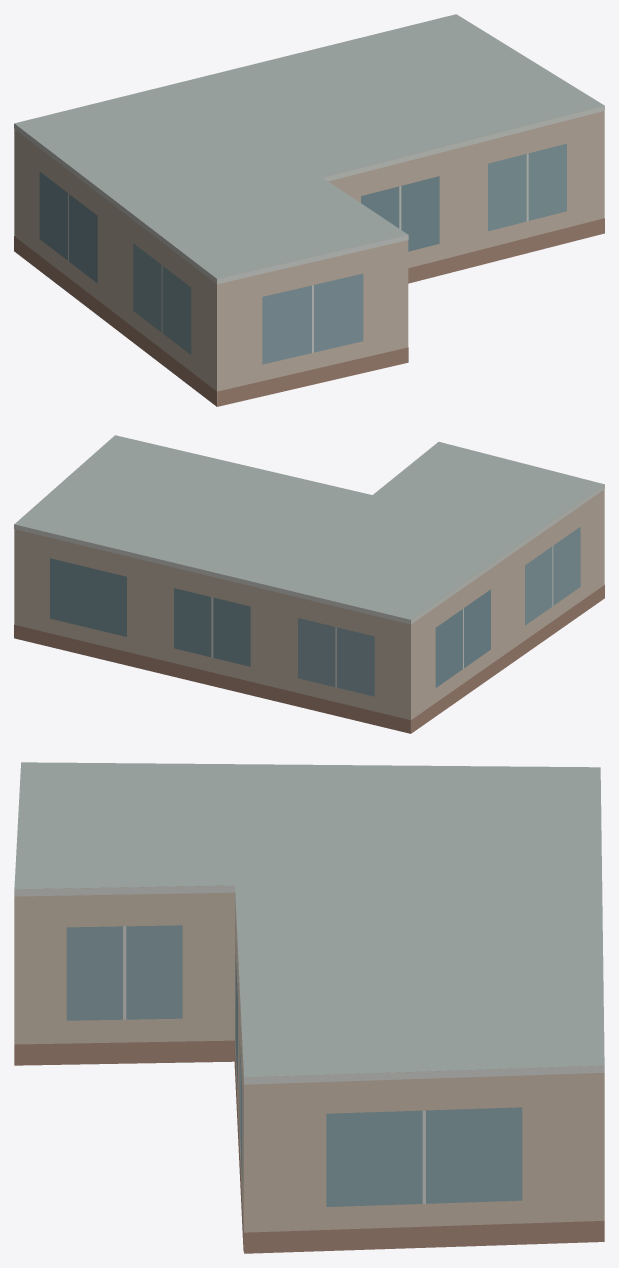
The model's file is survey-upis-32767081.glb.
3 renders of one model, top to bottom at view 1: azimuth 30°, elevation 25°; view 2: azimuth 150°, elevation 25°; view 3: azimuth 270°, elevation 25°, orthographic. The views are drawn at different scales.
Visible parts, largest first — view 1: survey-upis-32767081.tmp; view 2: survey-upis-32767081.tmp; view 3: survey-upis-32767081.tmp.
Part boxes in pixels (x1,y1,x2,y2): survey-upis-32767081.tmp: [14, 14, 604, 406]; survey-upis-32767081.tmp: [14, 435, 604, 733]; survey-upis-32767081.tmp: [14, 762, 604, 1253].
Bounding box in the file's own units: 11.71 × 3.05 × 9.27.
